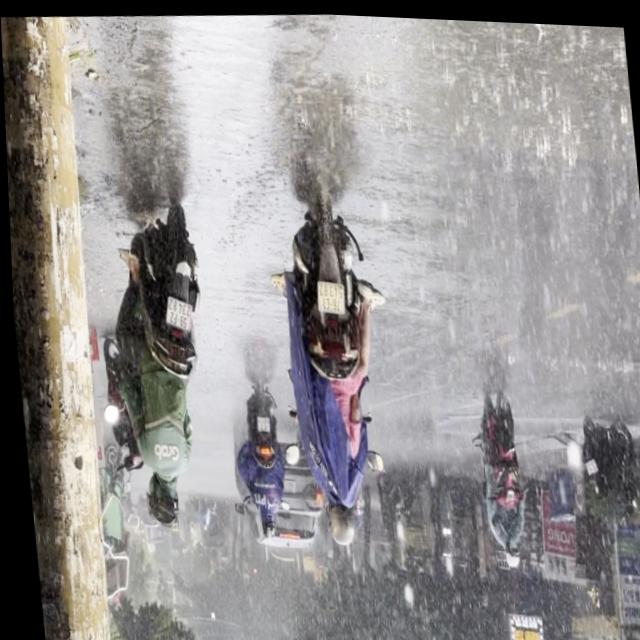helmet: (137, 463, 178, 526), (322, 498, 352, 545), (497, 531, 517, 565)
licenseplate: (262, 184, 397, 554), (98, 190, 221, 535), (461, 383, 531, 569)
nohelmet: (161, 293, 189, 329), (313, 278, 342, 312)
